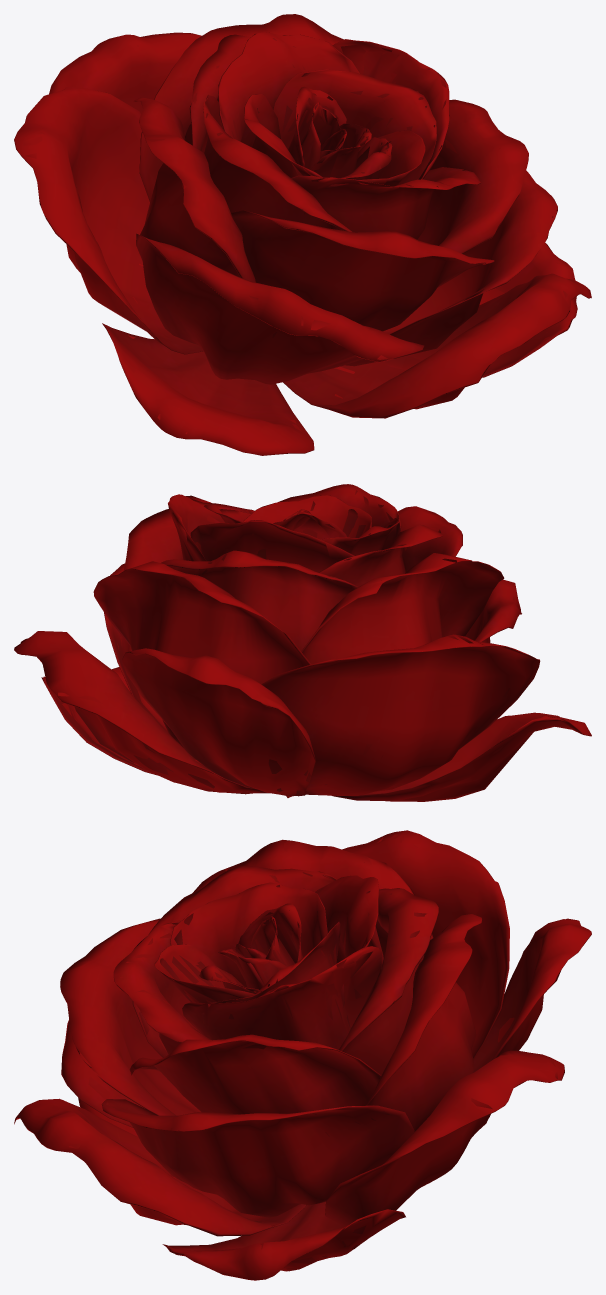
The model's file is garden-rose.glb.
3 renders of one model, top to bottom at view 1: azimuth 30°, elevation 25°; view 2: azimuth 150°, elevation 25°; view 3: azimuth 270°, elevation 25°, orthographic. The views are drawn at different scales.
Visible parts, largest first — view 1: FlowerHead; view 2: FlowerHead; view 3: FlowerHead.
Part boxes in pixels (box(x1,y1,x2,y2)): FlowerHead: box(14, 14, 591, 455); FlowerHead: box(14, 484, 591, 801); FlowerHead: box(14, 830, 591, 1280).
Size of the model in its own units: 0.4283 by 0.26 by 0.4254.
Materials: 1 (1 with a texture image).
